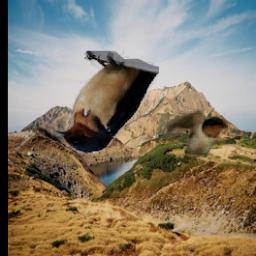Swallow: (54, 52, 160, 154), (164, 110, 229, 159)
